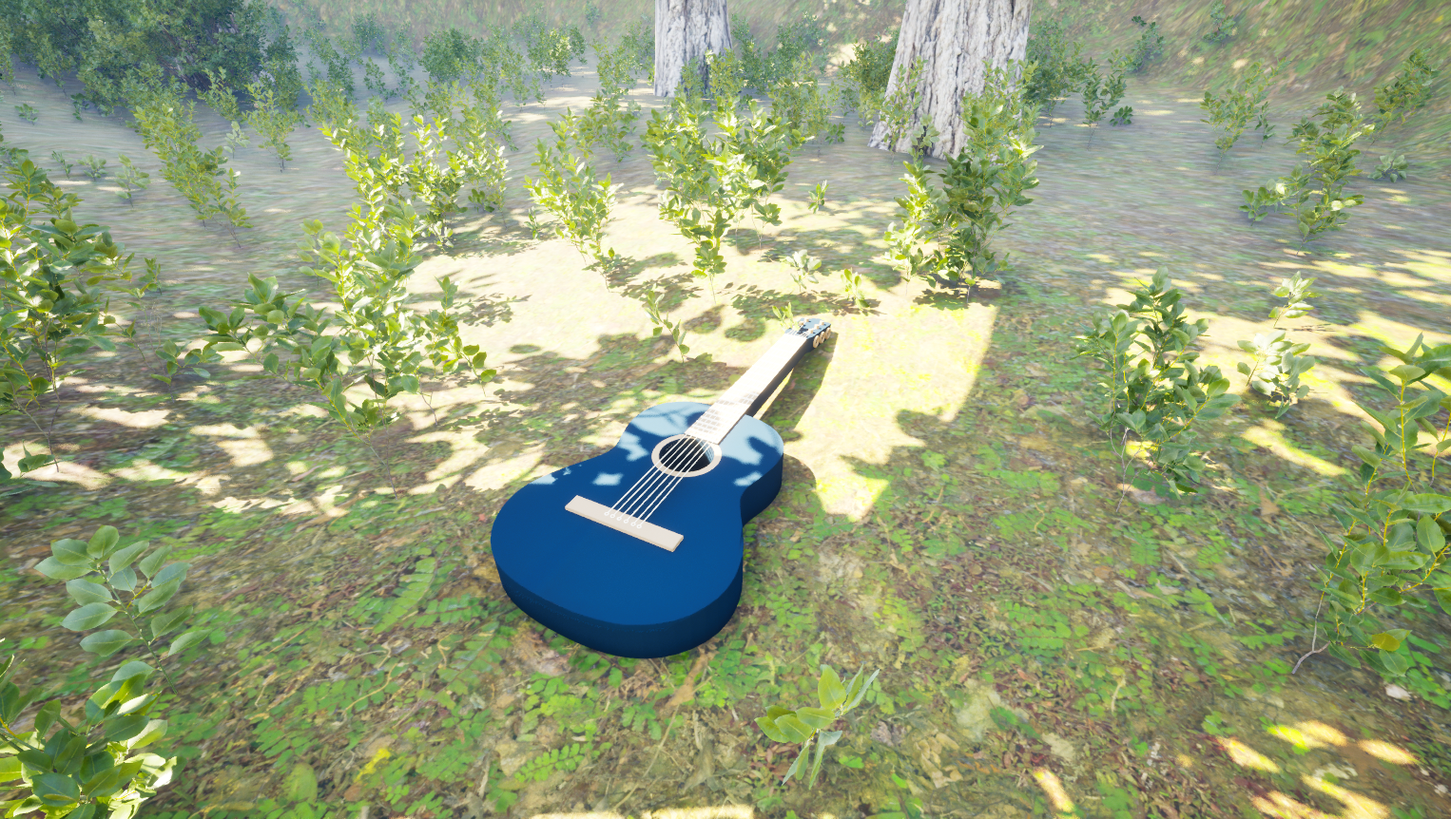Guitar: (444, 294, 894, 702)
